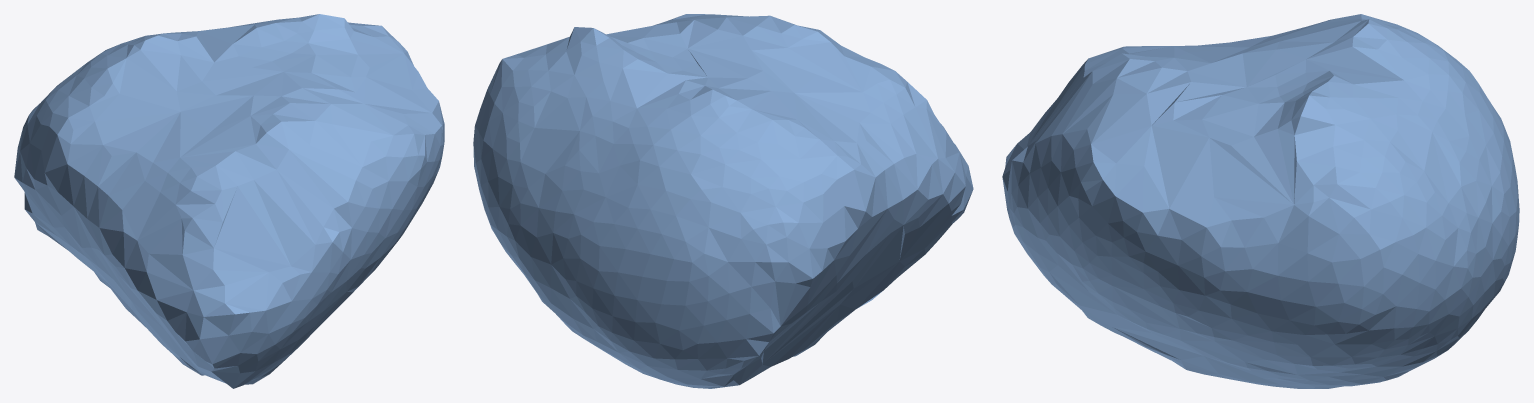
File: Model_10317_LH__Ventral_posteromedial_thalamic_nucleus_(VPM).obj
3 renders of one model, left to right at view 1: azimuth 30°, elevation 25°; view 2: azimuth 150°, elevation 25°; view 3: azimuth 270°, elevation 25°, orthographic. The views are drawn at different scales.
Bounding box in the file's own units: 1.51 × 1.2 × 1.59.
